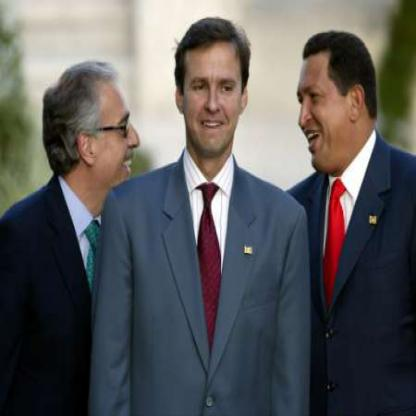face: (290, 36, 354, 172), (184, 22, 244, 158), (92, 78, 144, 197)
